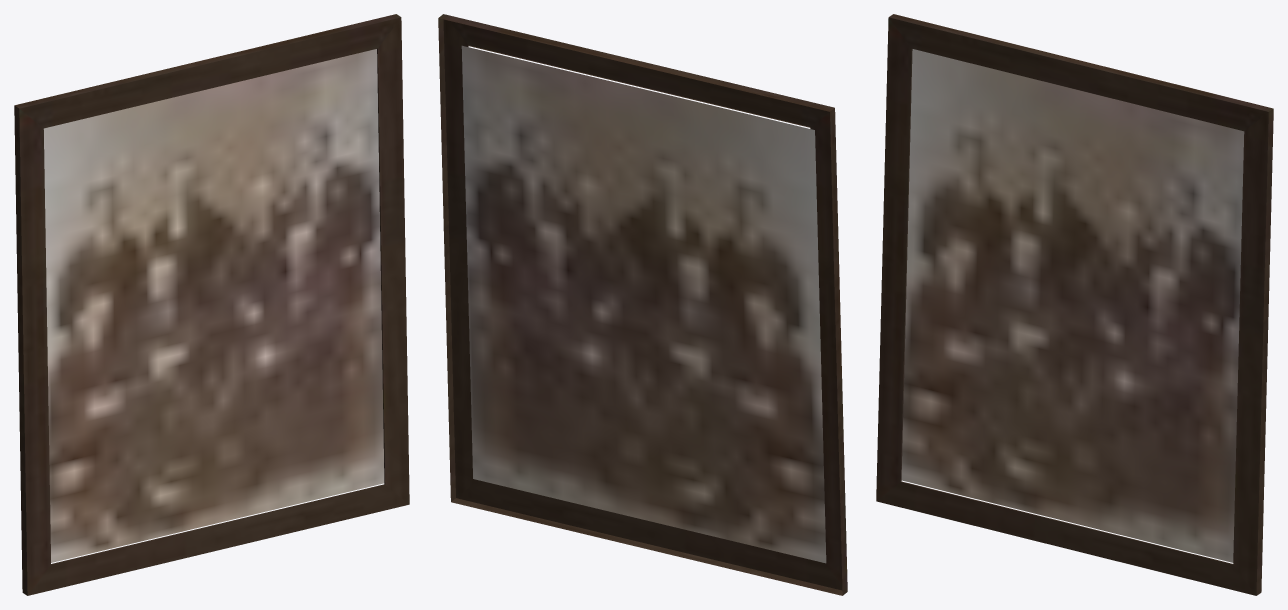
The model's file is portrait-small-4.glb.
3 views of the same model, side by side, from view 1: azimuth 30°, elevation 25°; view 2: azimuth 150°, elevation 25°; view 3: azimuth 330°, elevation 25° (orthographic). The views are drawn at different scales.
Parts seen in each view (by area): view 1: portrait-small-4; view 2: portrait-small-4; view 3: portrait-small-4.
Boxes of the visible parts, left/top/right/bottom form: portrait-small-4: left=14, top=14, right=409, bottom=595; portrait-small-4: left=438, top=14, right=847, bottom=595; portrait-small-4: left=876, top=14, right=1273, bottom=595.
Bounding box in the file's own units: 0.1674 × 0.2005 × 0.0116.
Materials: 1 (1 with a texture image).
